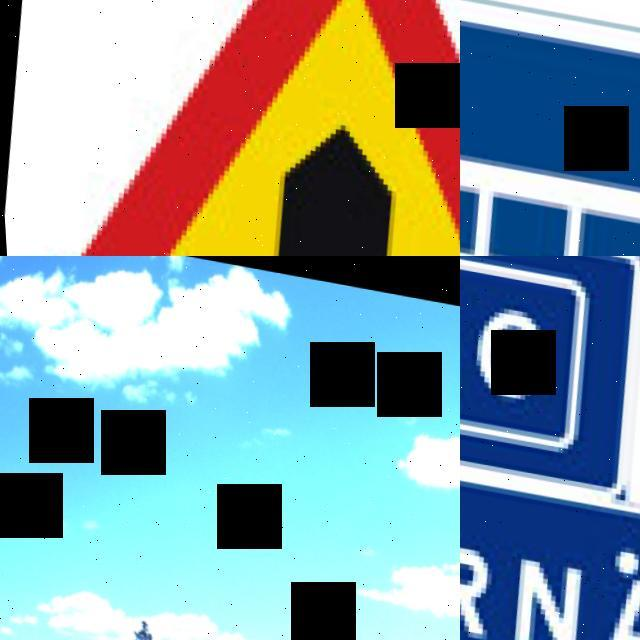166: (0, 0, 460, 256)
2: (460, 256, 640, 640)
Bus stop: (460, 0, 640, 256)
